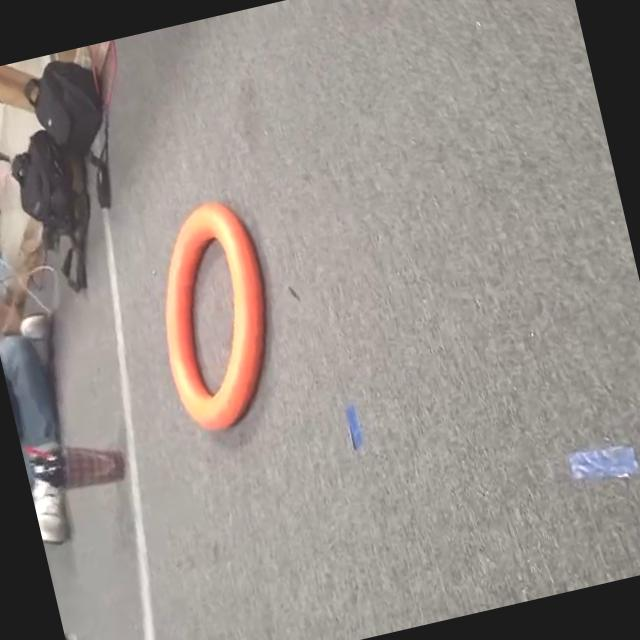note: (129, 188, 300, 447)
